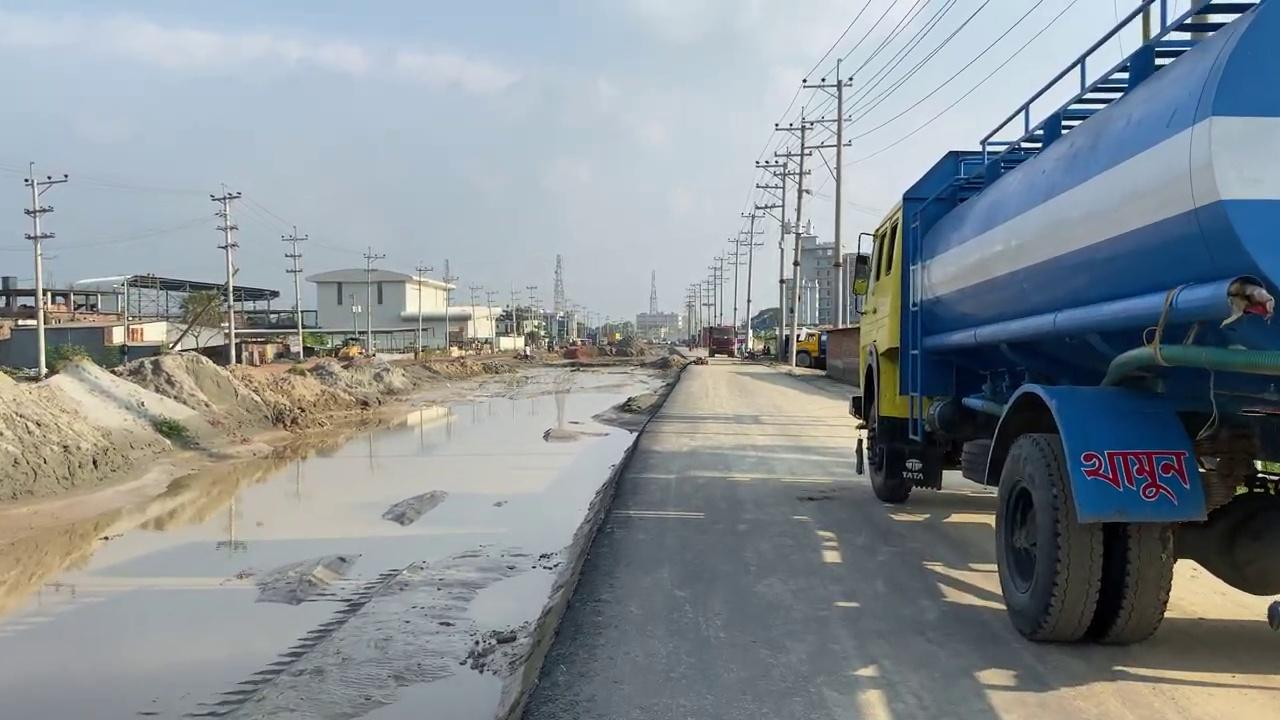Animal: (847, 0, 1278, 645)
Curb: (497, 350, 696, 717)
Pole: (802, 57, 853, 327), (21, 160, 68, 378), (209, 183, 241, 364), (280, 224, 308, 359), (361, 246, 385, 356), (413, 263, 433, 359)
Sidewalk: (1, 355, 680, 718)
Tree: (793, 326, 827, 368), (707, 325, 736, 356), (336, 339, 364, 359)
